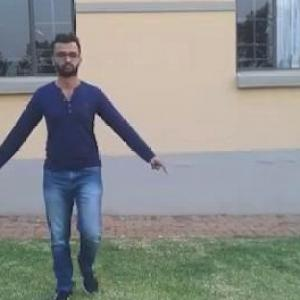land: (0, 36, 163, 299)
